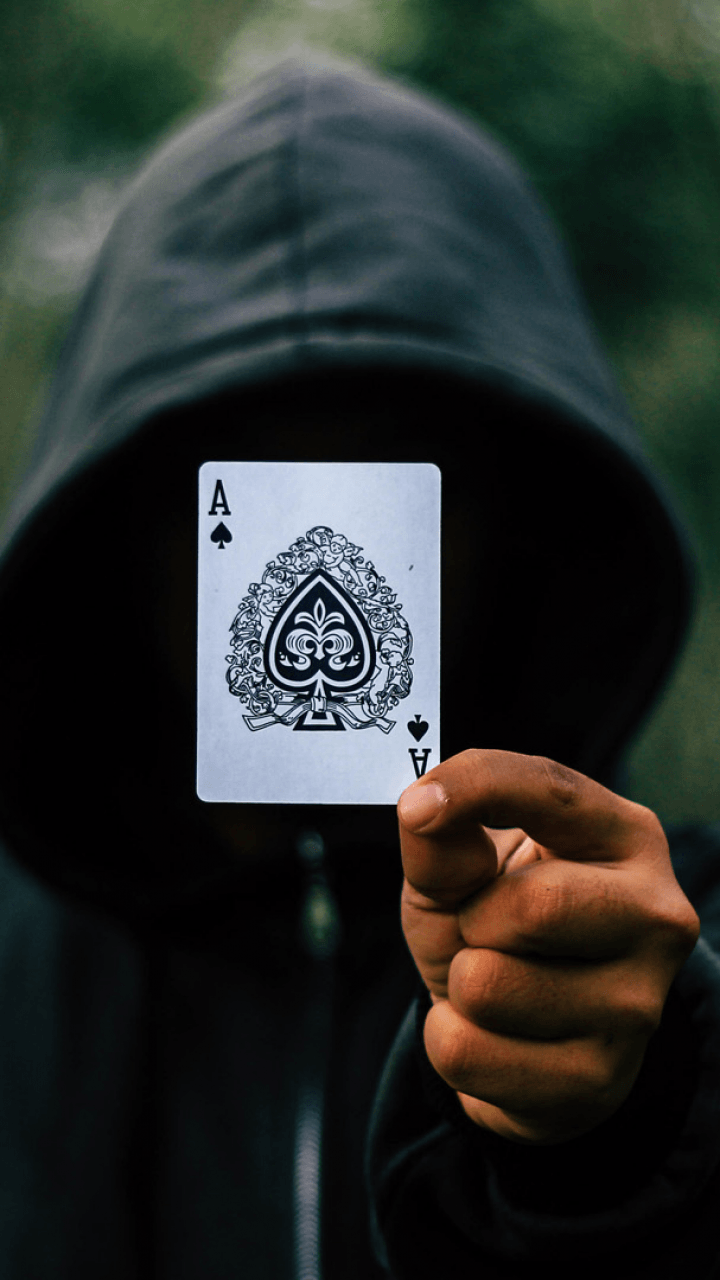ace of spades: (203, 454, 440, 813)
